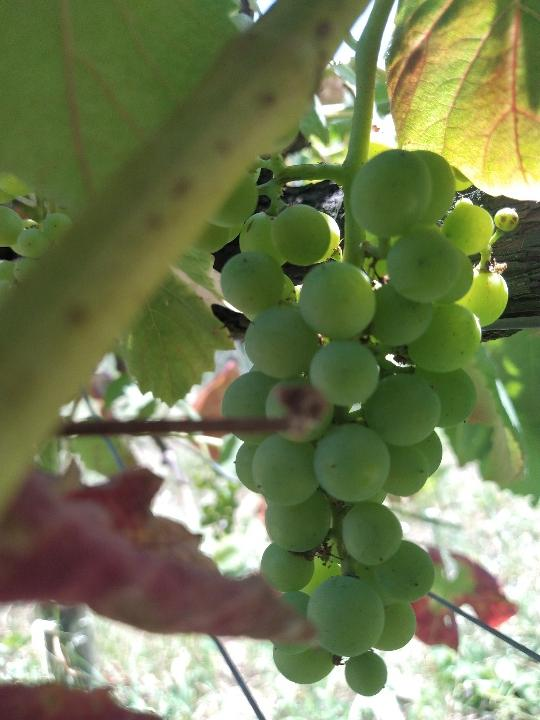grape: (220, 149, 522, 700)
